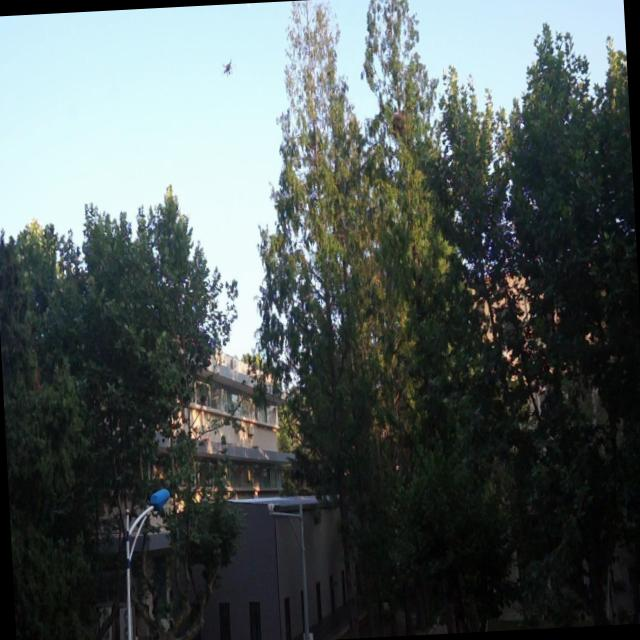drone: (217, 52, 237, 80)
